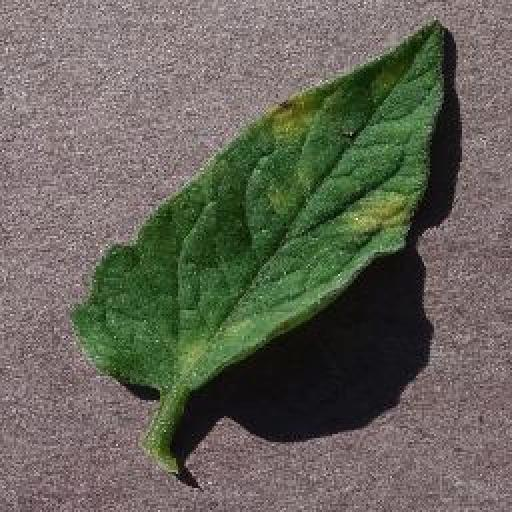disease_tomato: (72, 18, 446, 394)
